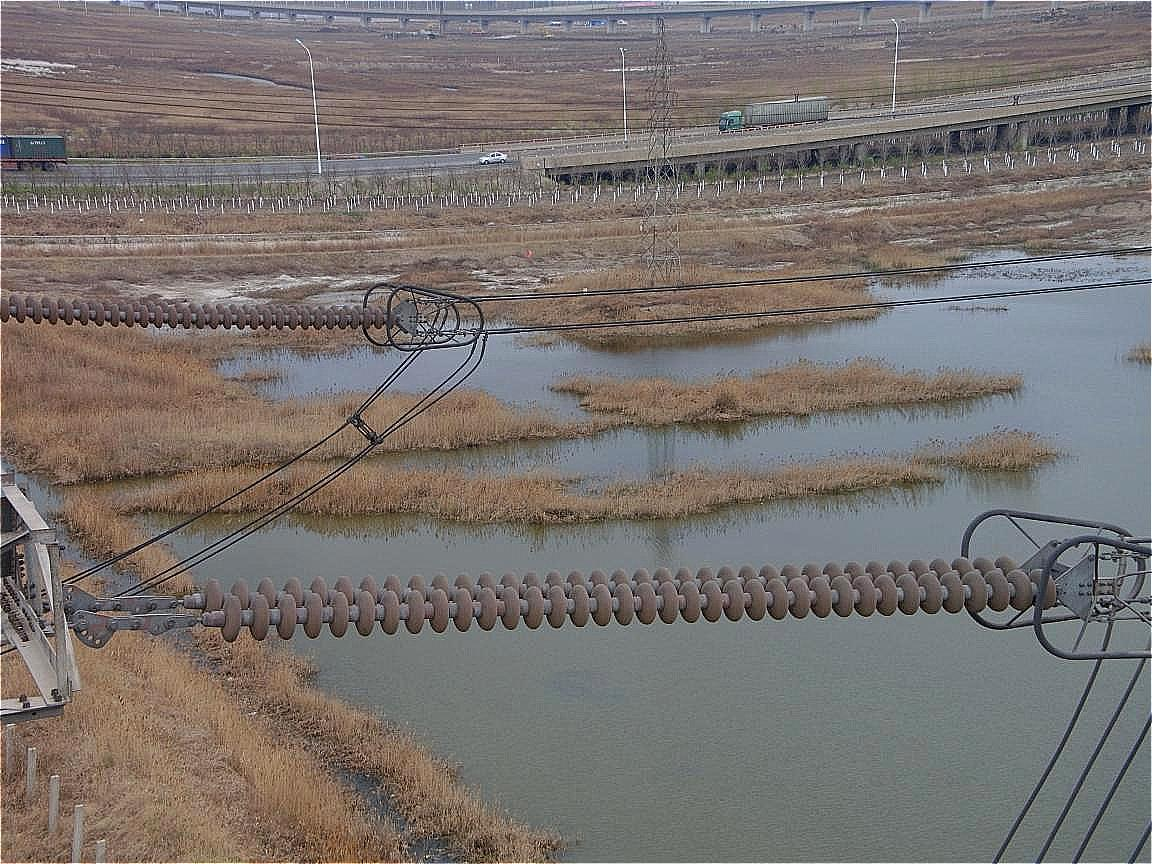insultor1: (160, 545, 1081, 641)
insultor3: (1, 291, 422, 346)
